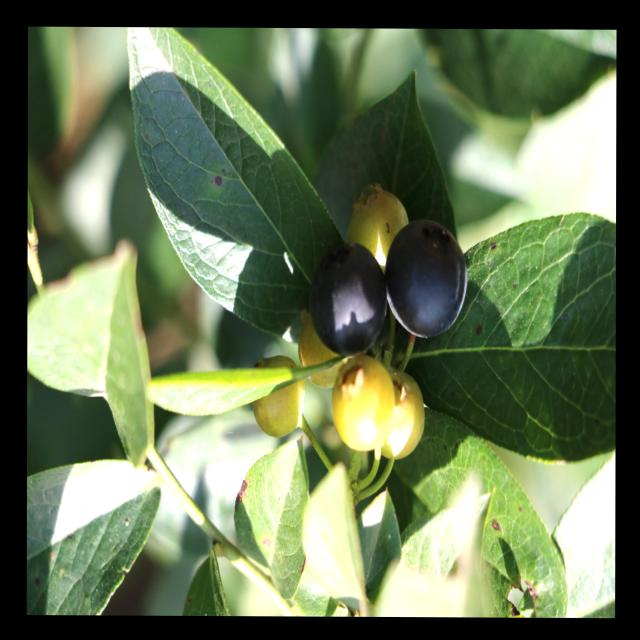blueberry: (382, 217, 472, 342), (304, 238, 389, 360)
blueberry-unripe: (344, 182, 414, 272), (335, 359, 398, 449), (255, 355, 308, 438), (377, 372, 425, 460), (298, 317, 349, 395)
